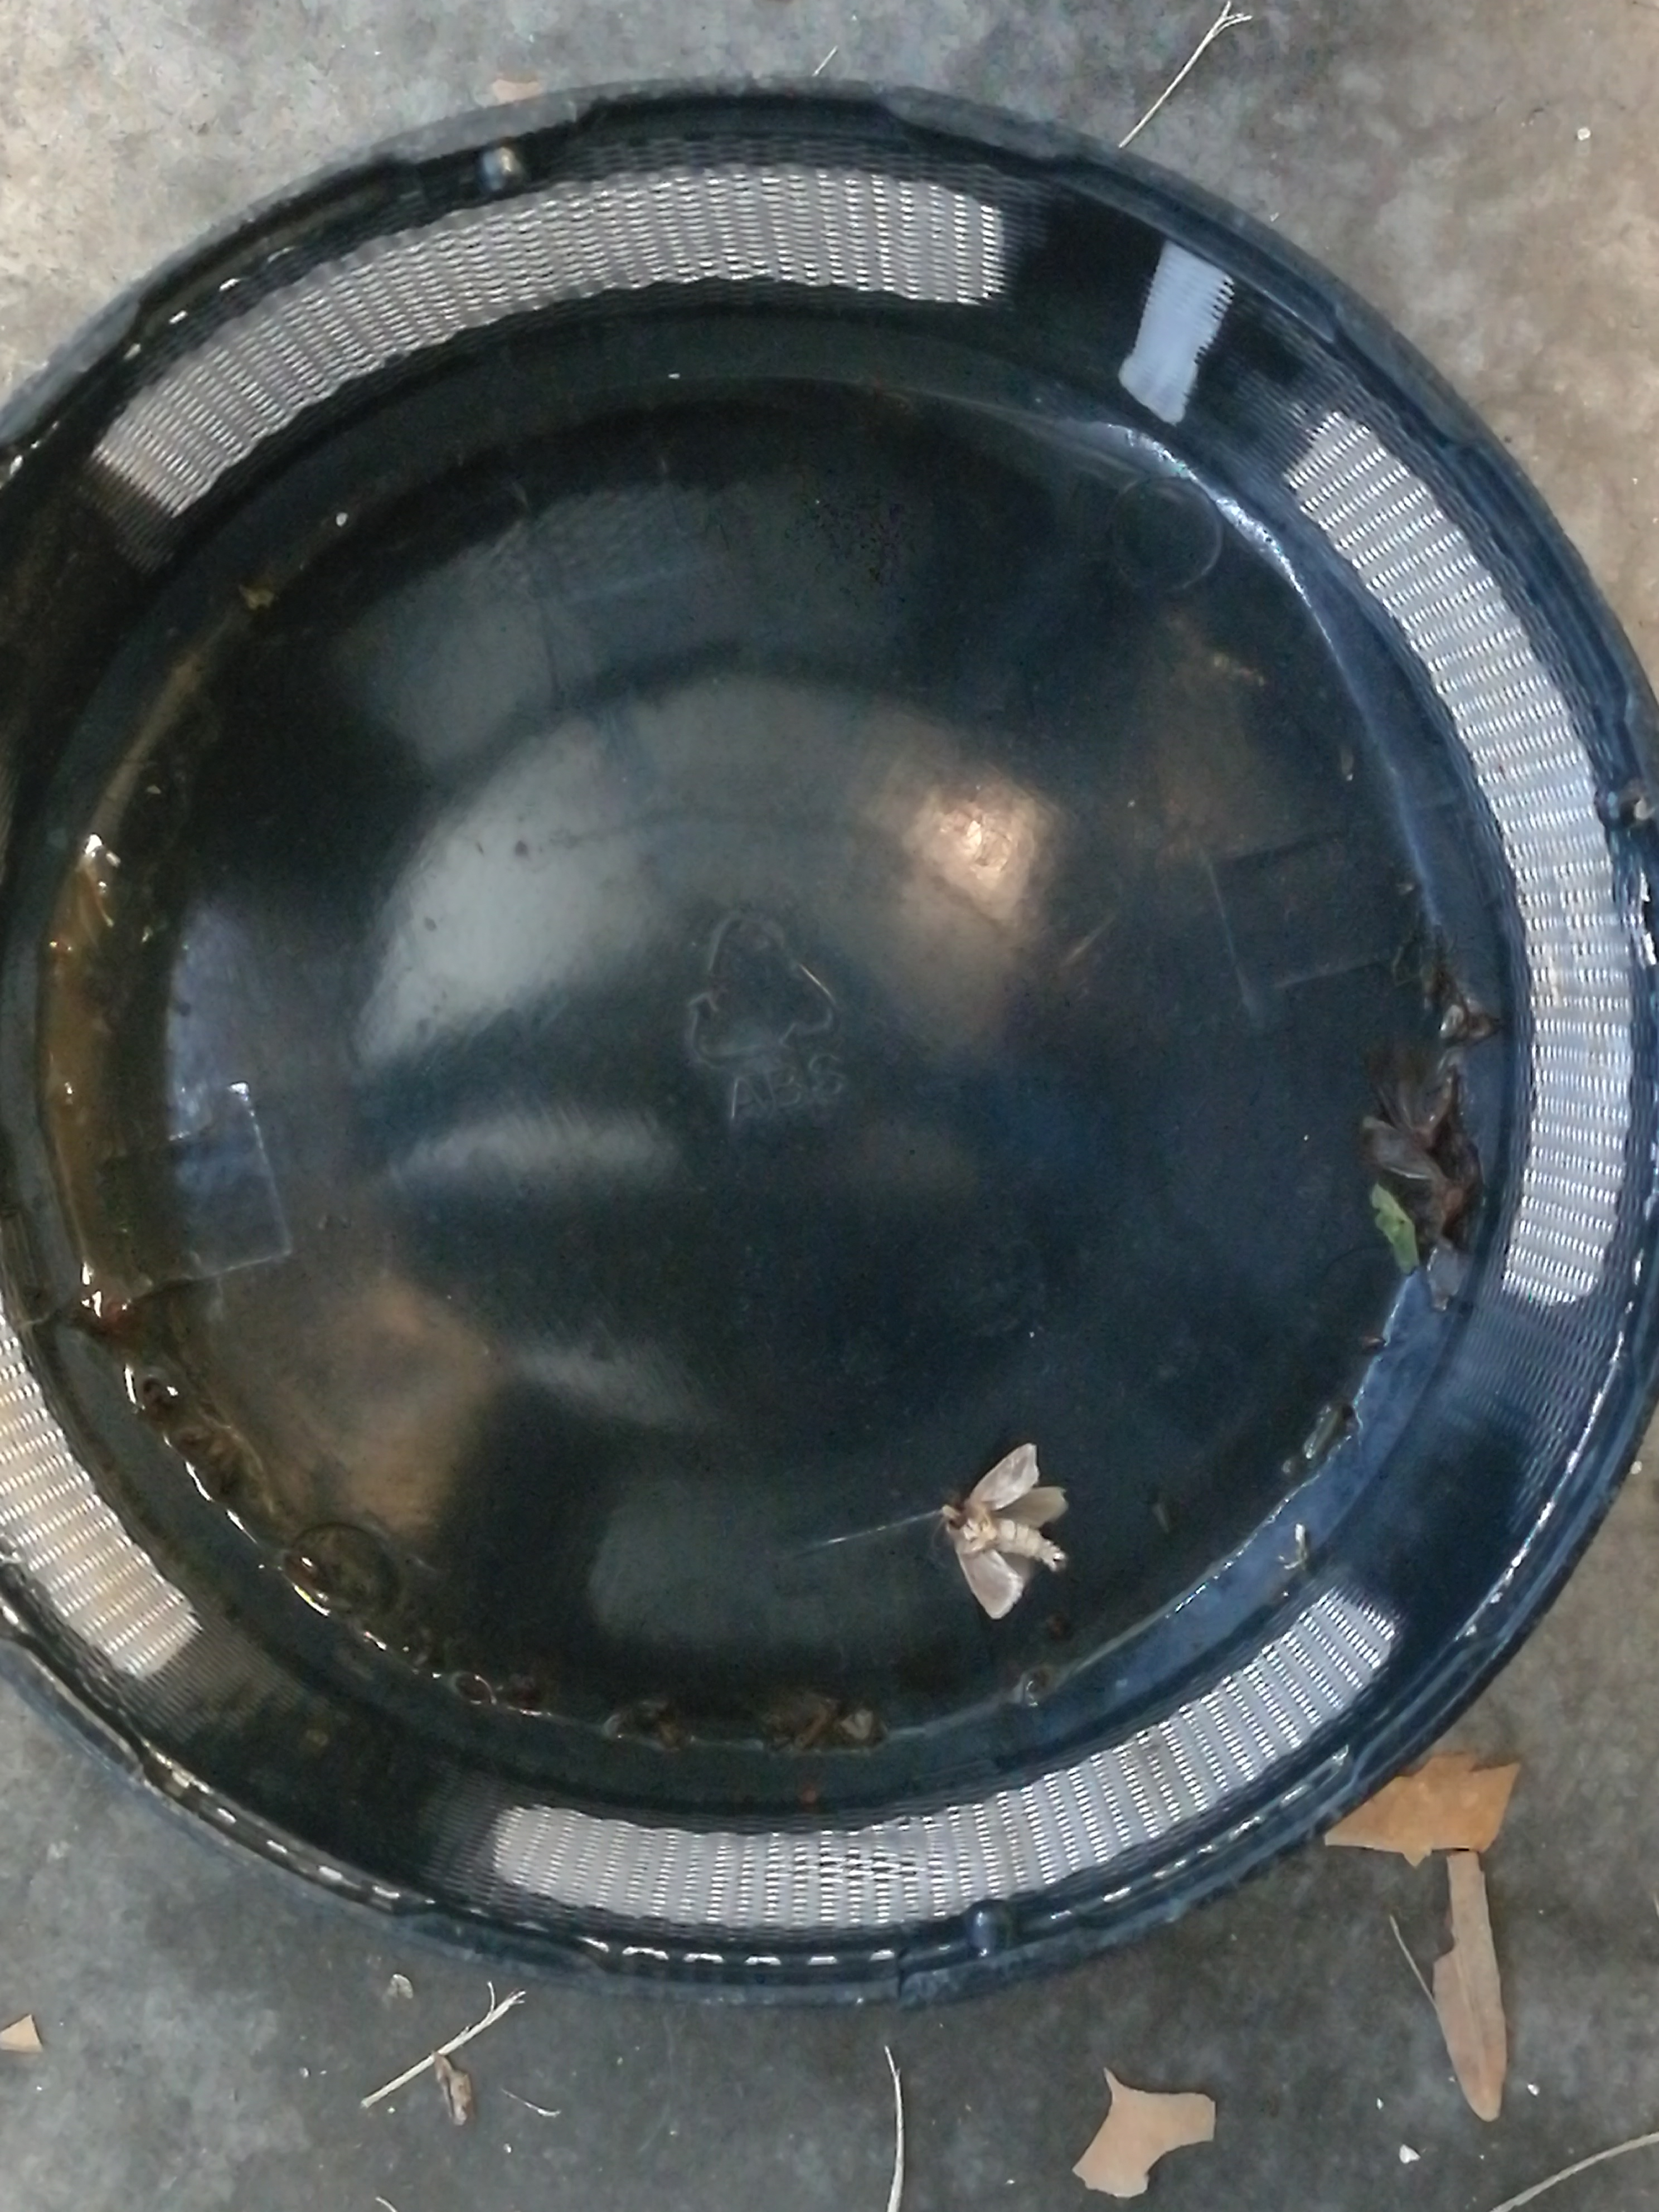moth: (948, 1442, 1066, 1616), (1363, 1068, 1450, 1184)
